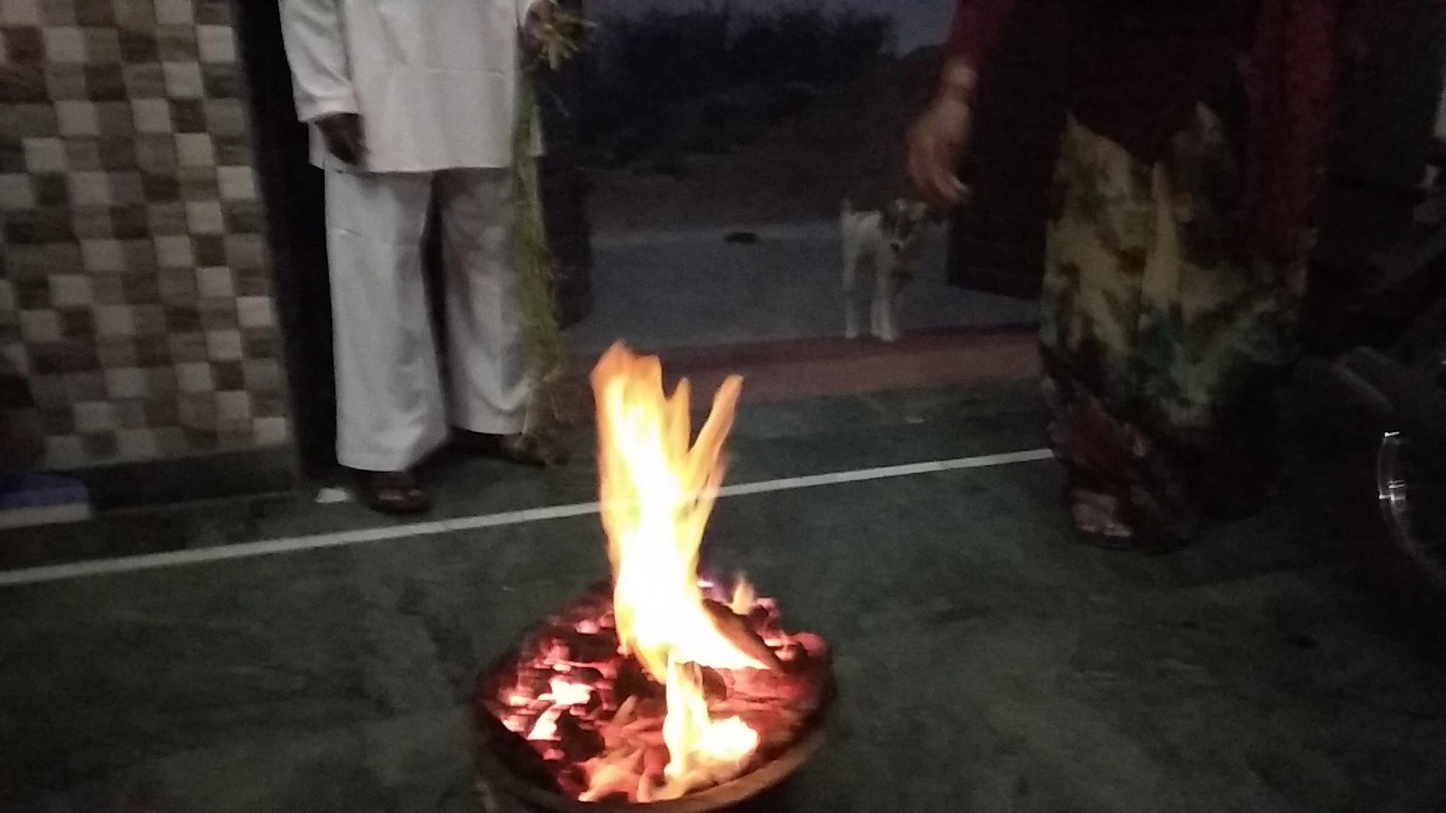fire: (584, 336, 808, 794), (493, 600, 583, 775)
